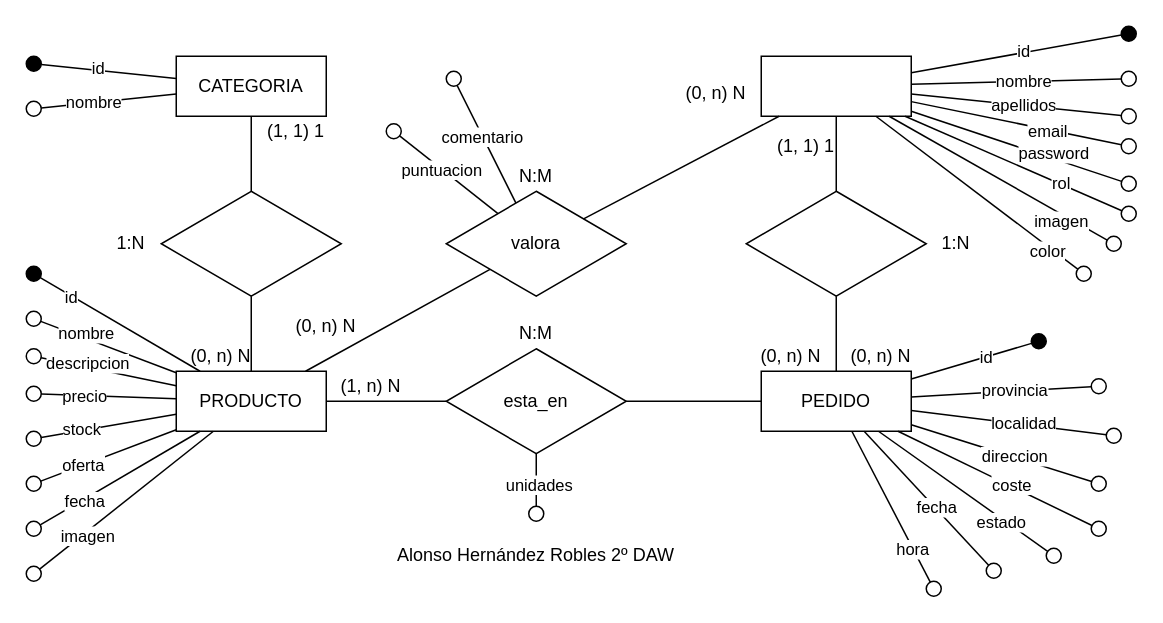
Some shapes in this 1163 by 623 pixel diagram are drawn without their labels. The centre of each missing label's shape, as x and y in pixels:
hace: the point at 835,243
pertenece: the point at 250,243
USUARIO: the point at 835,85
